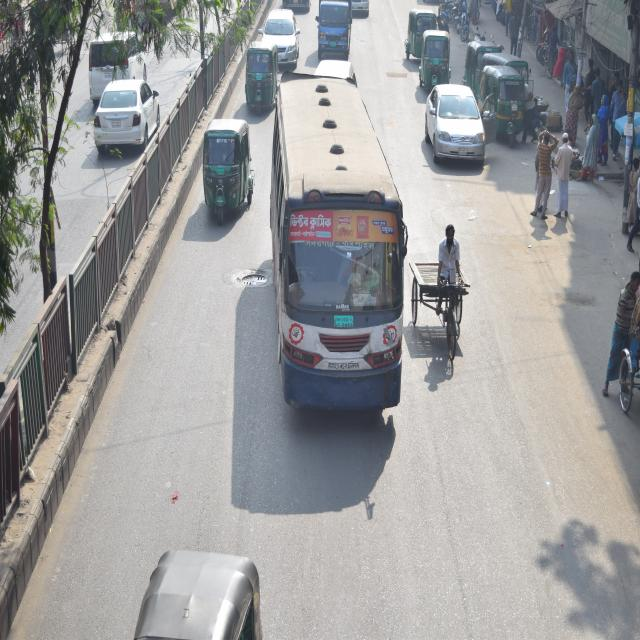bus: (268, 73, 401, 443)
car: (421, 78, 485, 174), (92, 78, 154, 146), (260, 7, 299, 64)
microbus: (86, 28, 158, 86)
pickup-van: (313, 0, 357, 64)
